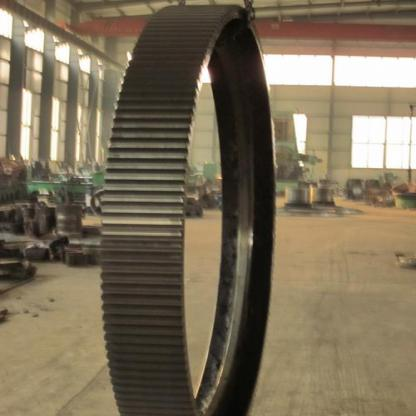FOD: (90, 0, 279, 415)
